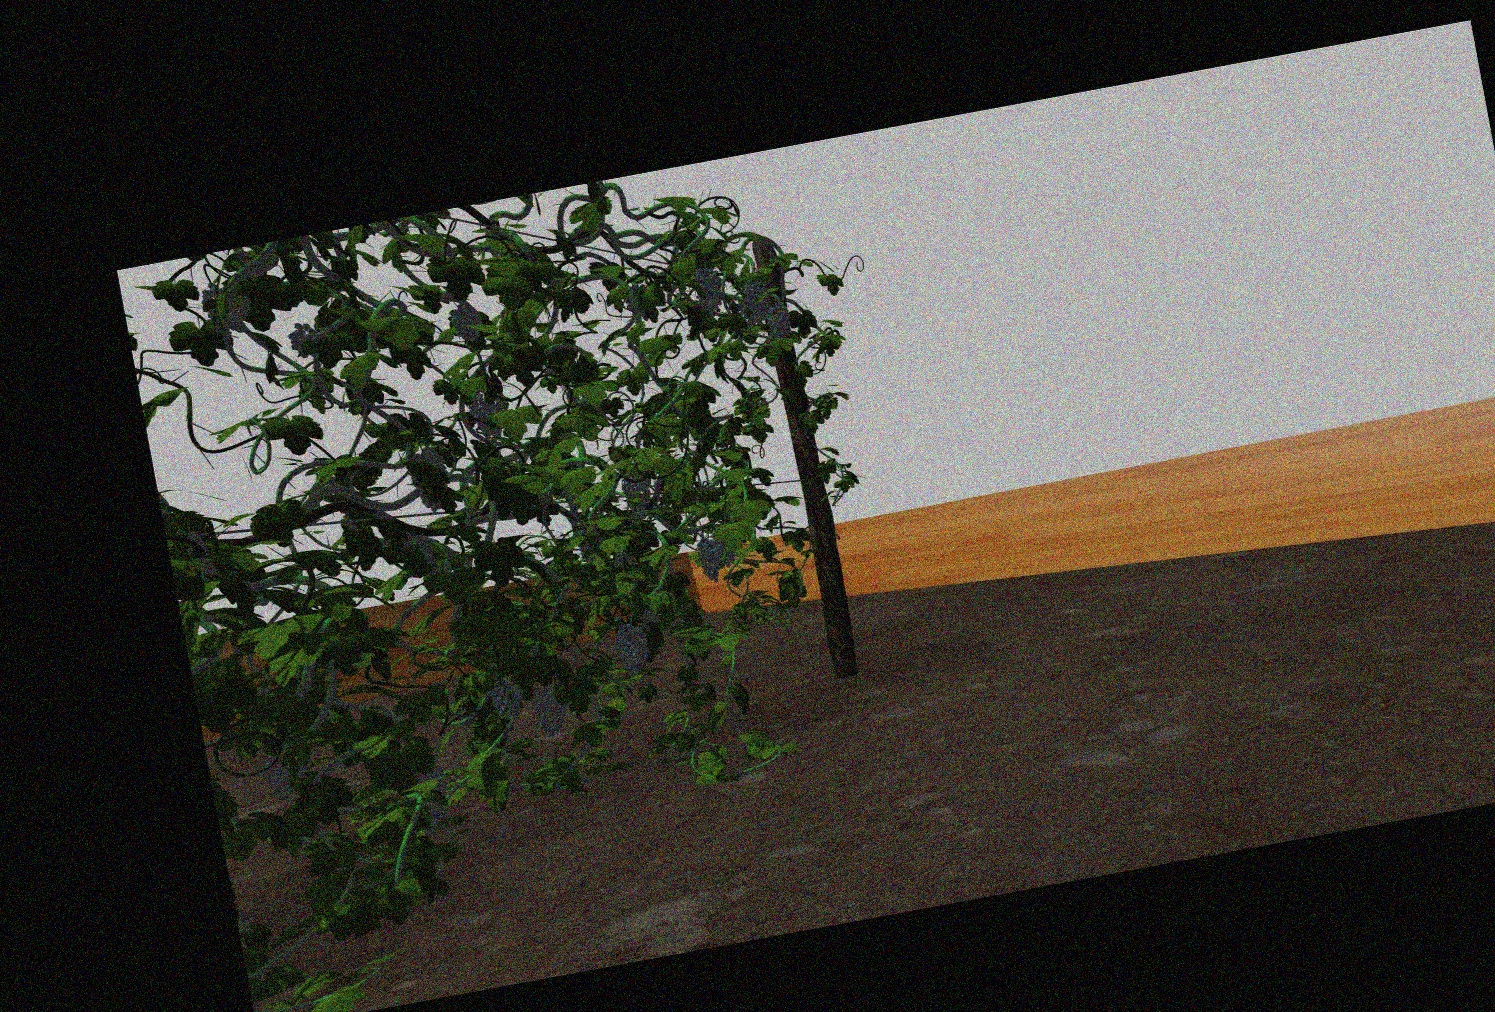grape: (261, 742, 312, 799), (202, 283, 250, 331), (470, 391, 510, 439), (617, 621, 649, 677), (532, 684, 566, 738), (286, 319, 325, 352), (744, 277, 771, 324), (491, 679, 522, 719), (697, 267, 722, 316), (451, 300, 480, 342), (623, 471, 652, 512), (697, 536, 720, 583), (764, 302, 790, 339)
